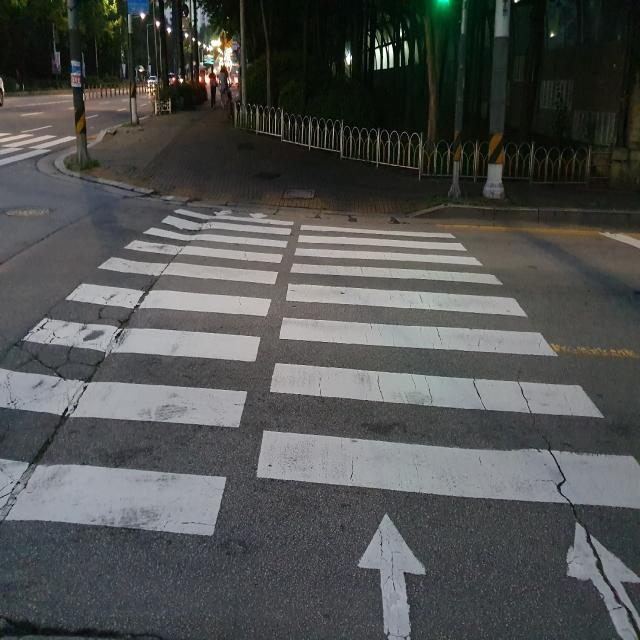횡단보도: (0, 205, 640, 639)
